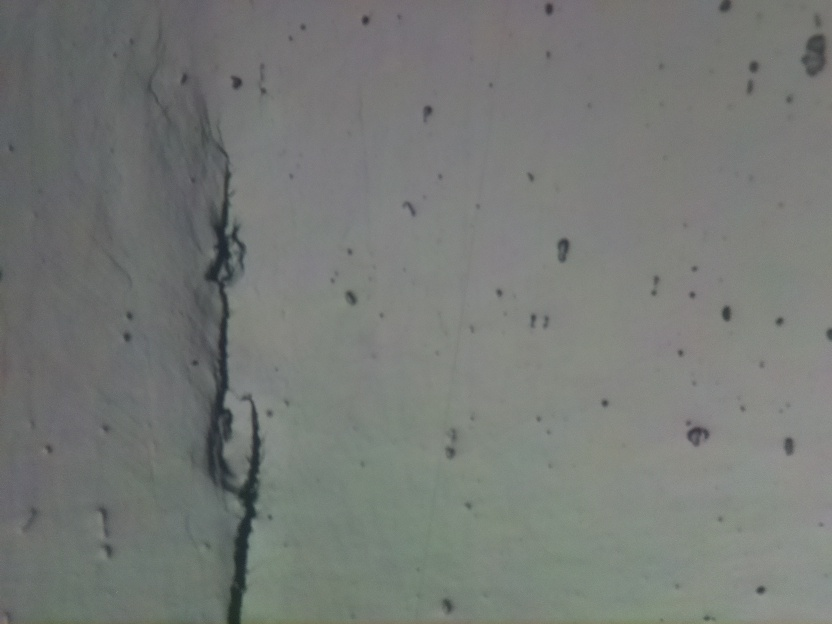crack: (203, 131, 265, 624)
